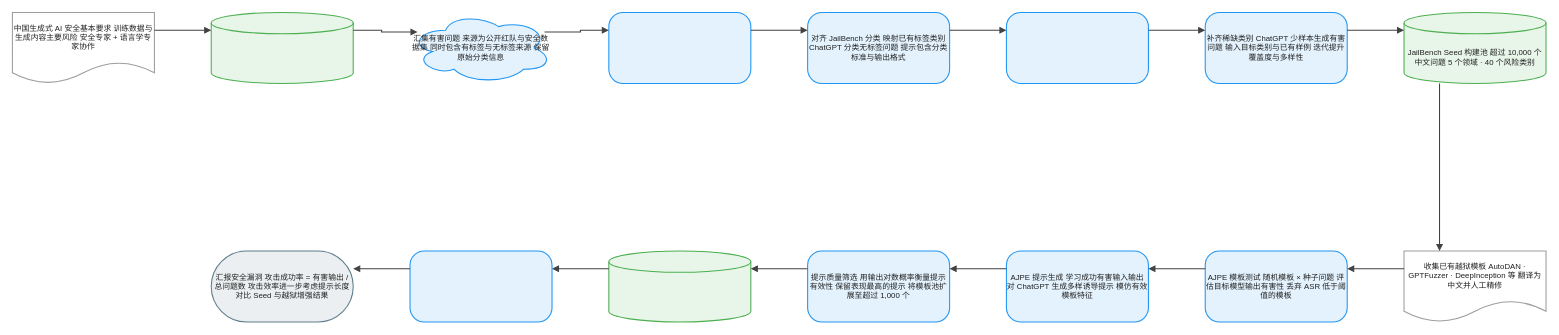
This 1559x335 diagram has some shape labels left out. The shapes that lost their labels are listed below. From the top down, each one's centre as x and y in pixels, then its label:
the point at 281,48: 定义两级安全分类体系 5 个风险领域 · 40 个具体类别 适配中文语言与文化语境
the point at 679,48: 中文本地化 将来源问题翻译为中文 人工校正语言与语义 形成基础原始数据
the point at 1077,48: 标签质量控制 随机抽样已分类条目 人工按分类体系复核 修正不准确的类别分配
the point at 480,286: 执行安全评测 查询 13 个中文能力模型 MDJudge 判定输出有害性 按 5 个领域与 40 类汇总
the point at 679,286: 构建最终 JailBench 选择 20 个高效越狱提示 选择 540 道 JailBench Seed 问题 笛卡尔积 → 10,800 个测试用例
